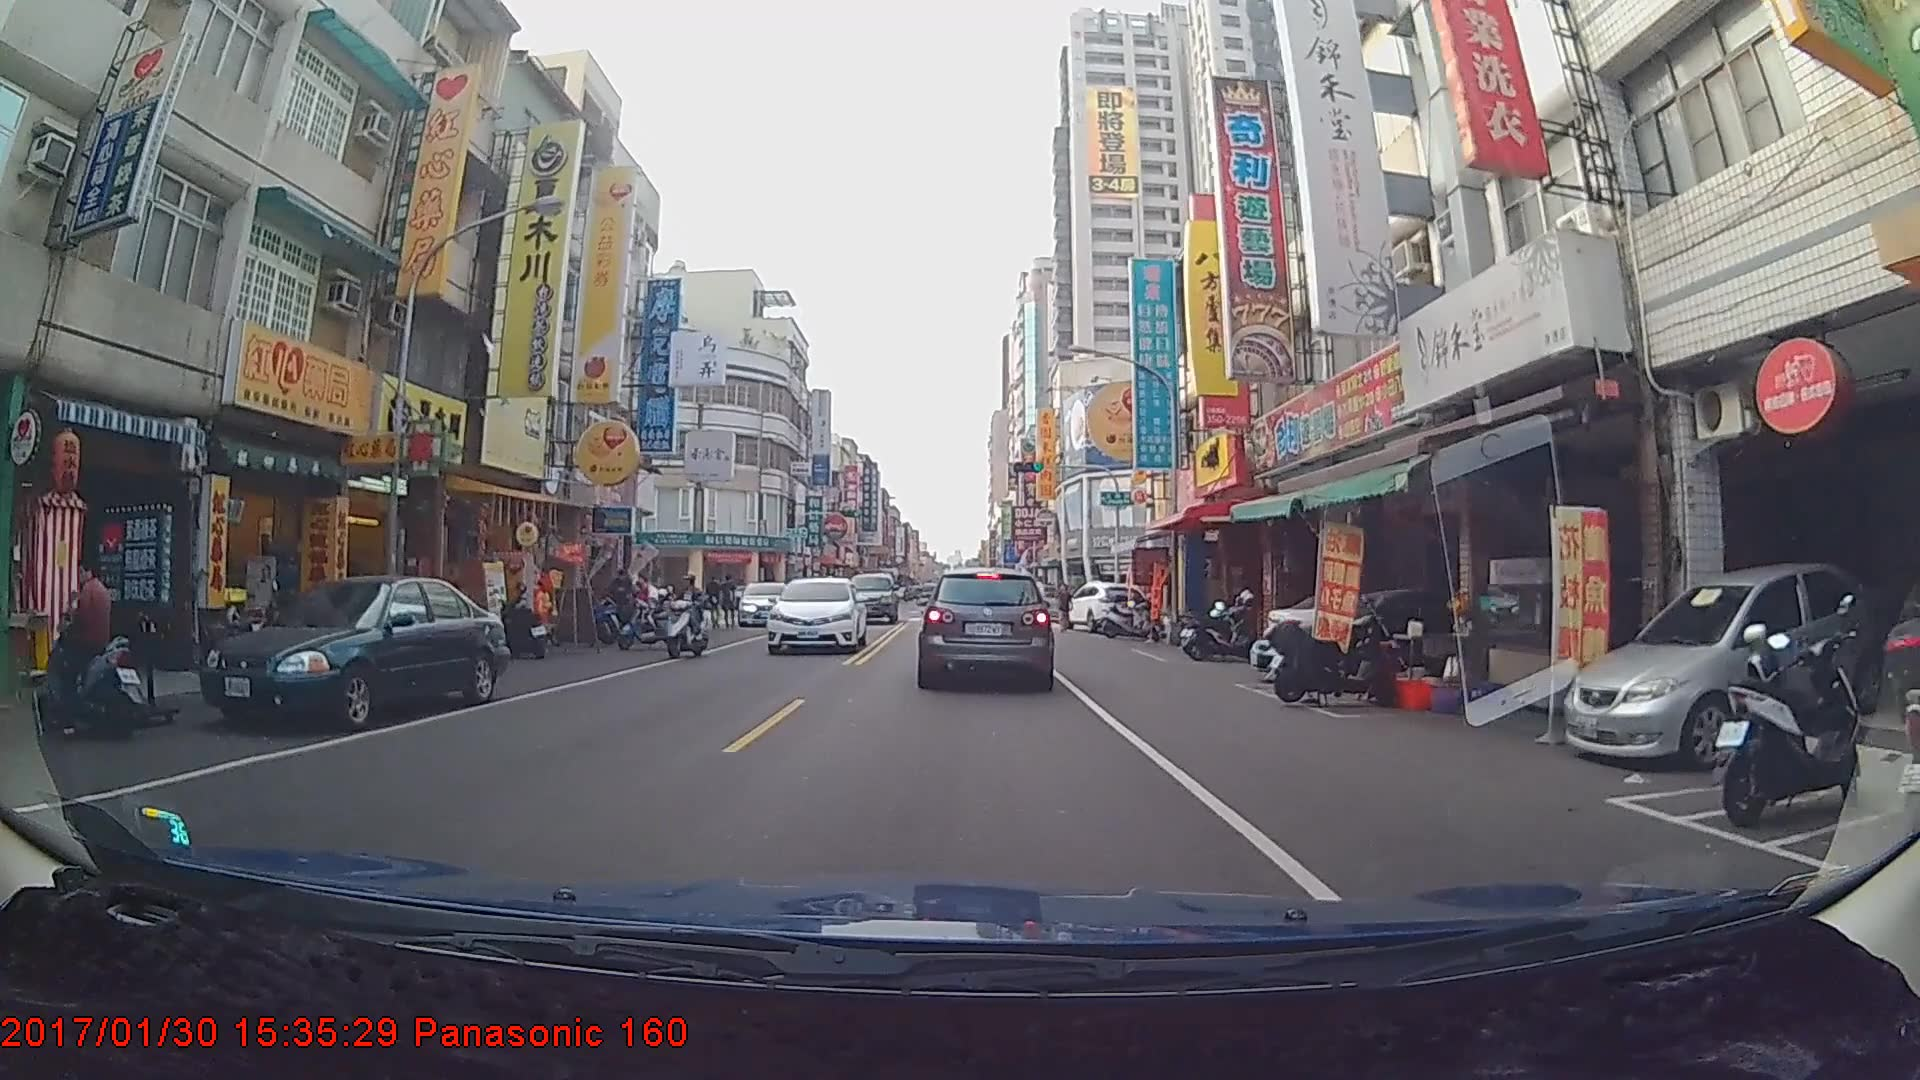pedestrian: (1053, 584, 1074, 636)
rider: (41, 553, 154, 744), (660, 573, 717, 667)
vehicle: (1552, 556, 1900, 763), (197, 576, 506, 734), (918, 565, 1052, 687), (764, 575, 865, 655), (1060, 583, 1153, 638), (842, 574, 899, 627), (736, 581, 784, 626)
